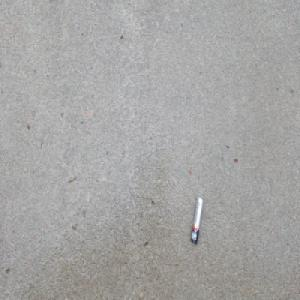Battery: (189, 195, 203, 246)
